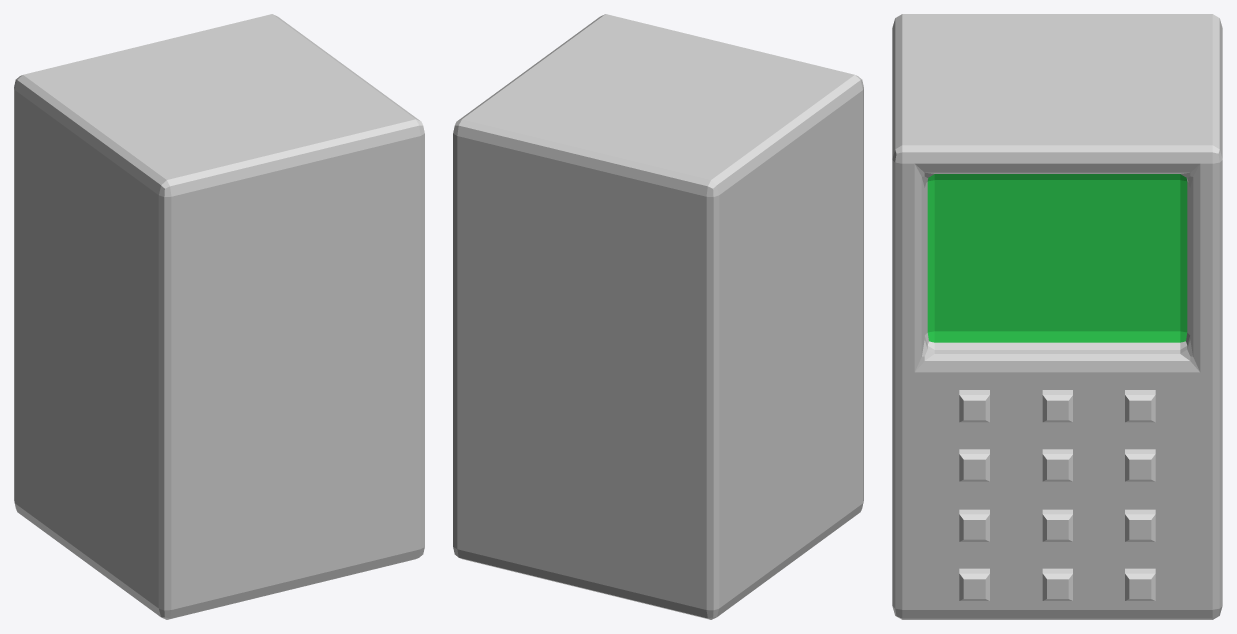
File: Elevator.fbx
The picture shows the model from 3 angles, left to right: view 1: azimuth 30°, elevation 25°; view 2: azimuth 150°, elevation 25°; view 3: azimuth 270°, elevation 25°; orthographic projection. The views are drawn at different scales.
Parts seen in each view (by area): view 1: Cube; view 2: Cube; view 3: Cube, Cube.001, Cube.002, Cube.004, Cube.005, Cube.006, Cube.007, Cube.008, Cube.010, Cube.011, Cube.003, Cube.009 (+1 smaller).
Boxes of the visible parts, bbox=[...] form: Cube: bbox=[14, 14, 424, 619]; Cube: bbox=[453, 14, 863, 619]; Cube: bbox=[892, 14, 1222, 619]; Cube.001: bbox=[959, 390, 989, 422]; Cube.002: bbox=[1125, 390, 1155, 422]; Cube.004: bbox=[1042, 449, 1072, 481]; Cube.005: bbox=[1125, 449, 1155, 481]; Cube.006: bbox=[959, 449, 989, 481]; Cube.007: bbox=[959, 509, 989, 541]; Cube.008: bbox=[1125, 509, 1155, 541]; Cube.010: bbox=[959, 568, 989, 600]; Cube.011: bbox=[1125, 568, 1155, 600]; Cube.003: bbox=[1042, 390, 1072, 422]; Cube.009: bbox=[1042, 509, 1072, 541].
Bounding box in the file's own units: 209 × 317 × 200.
